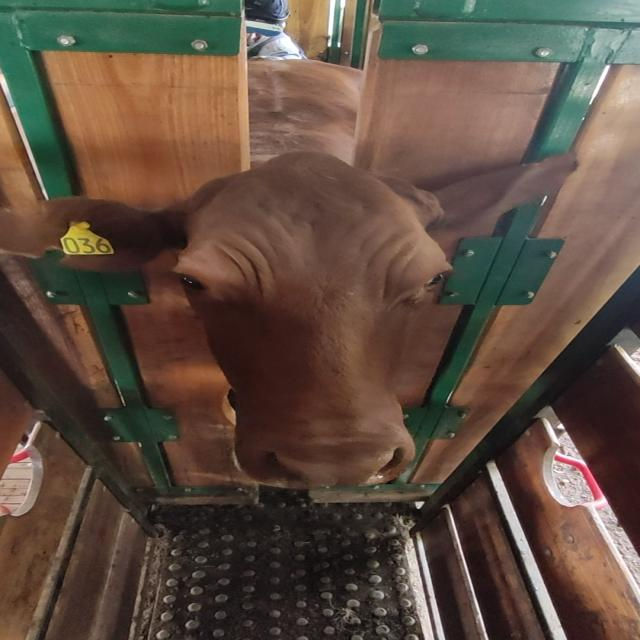cowFace: (163, 152, 444, 488)
